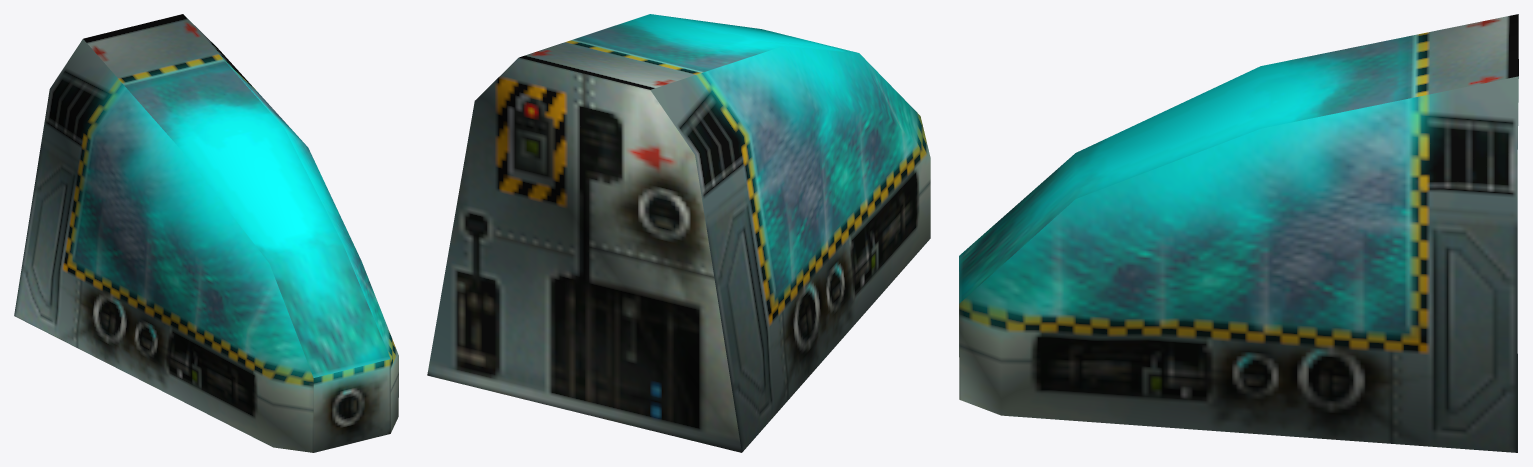
The model's file is pod.glb.
3 views of the same model, side by side, from view 1: azimuth 30°, elevation 25°; view 2: azimuth 150°, elevation 25°; view 3: azimuth 270°, elevation 25° (orthographic). The views are drawn at different scales.
Visible parts, largest first — view 1: utl22; view 2: utl22; view 3: utl22.
Boxes of the visible parts, bbox=[...] form: utl22: bbox=[14, 14, 398, 452]; utl22: bbox=[427, 14, 930, 452]; utl22: bbox=[959, 14, 1518, 452].
Bounding box in the file's own units: 0.7346 × 0.7624 × 1.16.
Materials: 1 (1 with a texture image).
